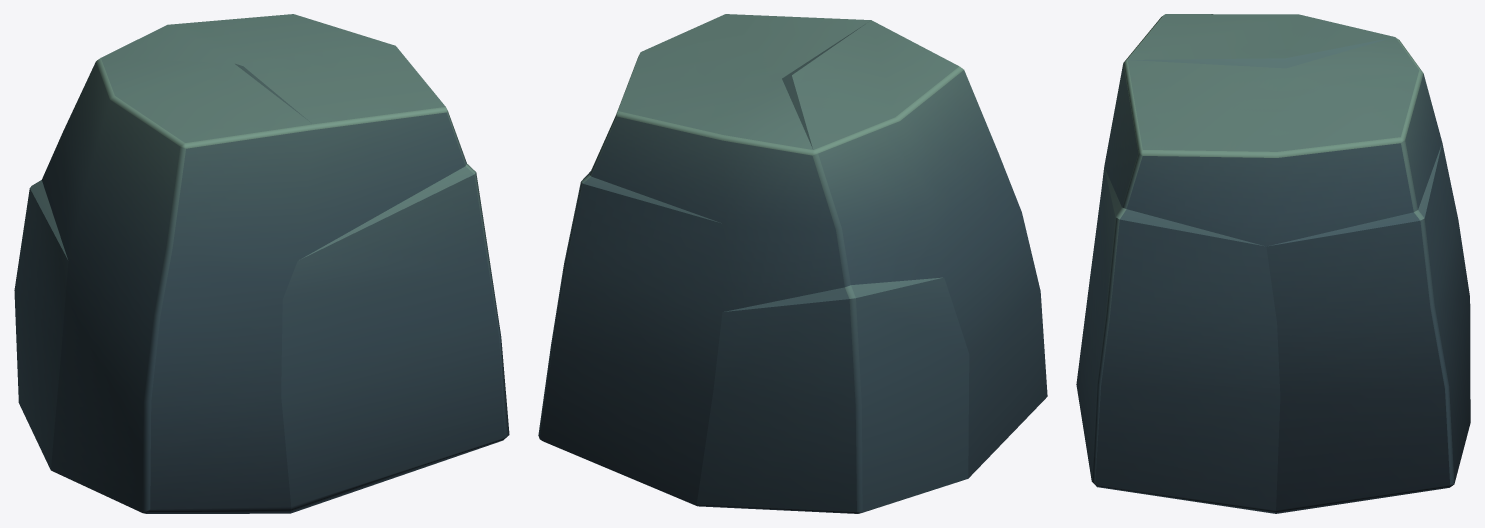
Rendered from rock_large_05.fbx.
3 views of the same model, side by side, from view 1: azimuth 30°, elevation 25°; view 2: azimuth 150°, elevation 25°; view 3: azimuth 270°, elevation 25° (orthographic).
Visible parts, largest first — view 1: rock_large_05; view 2: rock_large_05; view 3: rock_large_05.
Boxes of the visible parts, x1,y1,x2,y2 form: rock_large_05: [14, 14, 509, 513]; rock_large_05: [538, 14, 1047, 513]; rock_large_05: [1076, 14, 1470, 513].
Size of the model in its own units: 1824 by 1744 by 1653.
